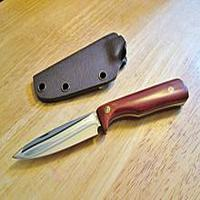knife: (8, 75, 196, 168)
